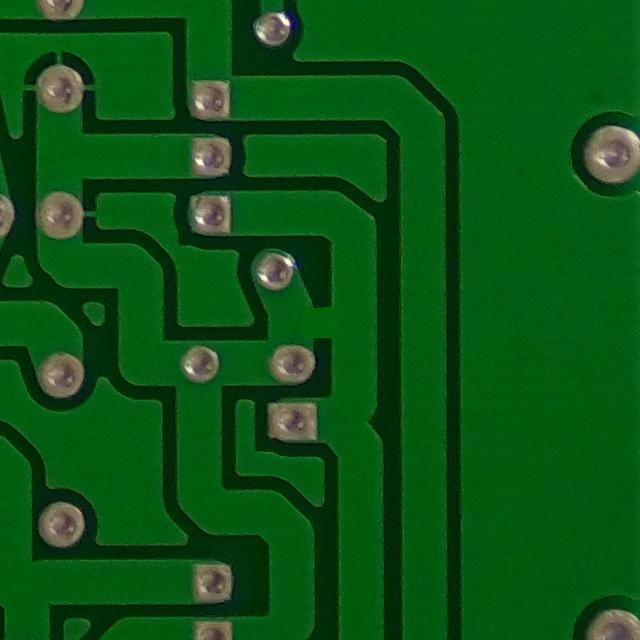short: (280, 283, 361, 357)
